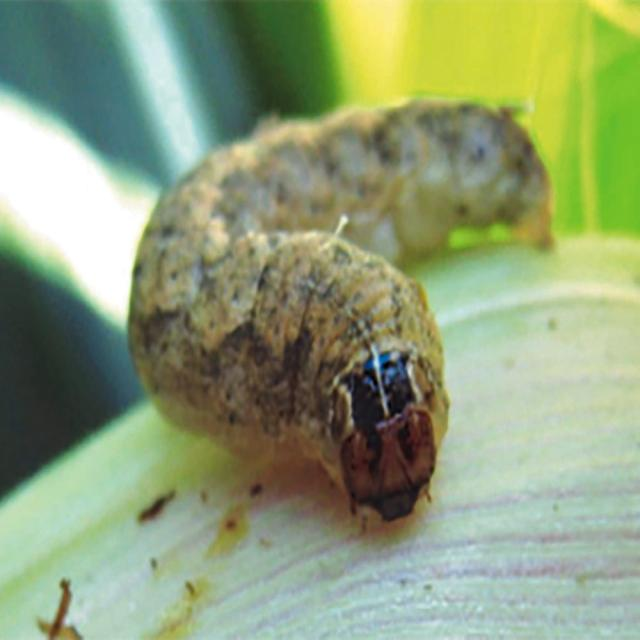Cutworm: (122, 94, 556, 544)
